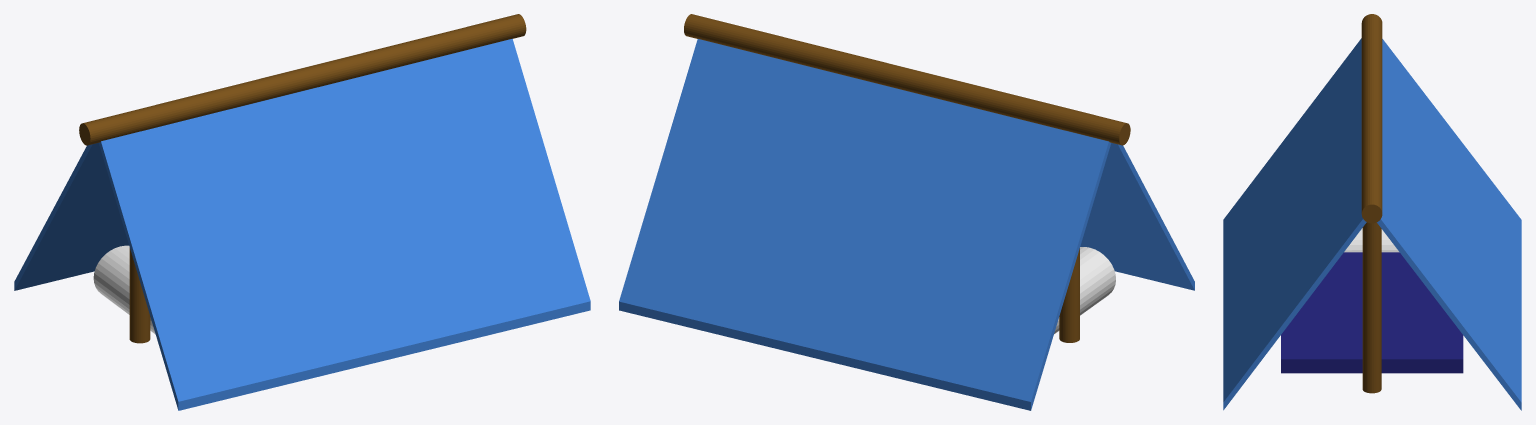
File: tent.fbx
3 renders of one model, left to right at view 1: azimuth 30°, elevation 25°; view 2: azimuth 150°, elevation 25°; view 3: azimuth 270°, elevation 25°, orthographic. The views are drawn at different scales.
Parts seen in each view (by area): view 1: rightWool, Cylinder, leftWool, Cylinder.003, Cylinder.001; view 2: leftWool, Cylinder, rightWool, Cylinder.003, Cylinder.001; view 3: leftWool, rightWool, Couverture, Cylinder, Cylinder.002, Cylinder.003.
Boxes of the visible parts, x1,y1,x2,y2 form: rightWool: (99, 38, 590, 410); Cylinder: (79, 14, 526, 145); leftWool: (14, 143, 128, 290); Cylinder.003: (93, 245, 155, 334); Cylinder.001: (129, 248, 150, 343); leftWool: (619, 39, 1111, 410); Cylinder: (684, 14, 1130, 145); rightWool: (1080, 143, 1194, 290); Cylinder.003: (1054, 247, 1115, 333); Cylinder.001: (1059, 248, 1079, 342); leftWool: (1377, 39, 1521, 410); rightWool: (1223, 38, 1366, 410); Couverture: (1281, 252, 1463, 373); Cylinder: (1361, 14, 1382, 223); Cylinder.002: (1362, 222, 1381, 393); Cylinder.003: (1344, 228, 1399, 252).
Size of the model in its own units: 6.98 by 4.55 by 3.7.
